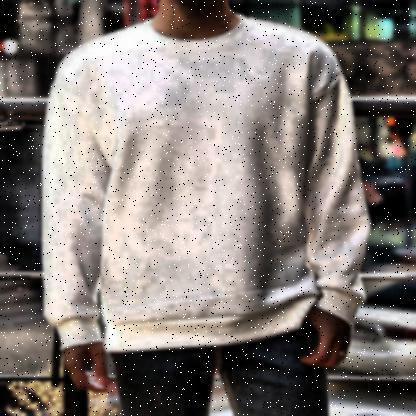sweater: (37, 15, 368, 357)
trousers: (104, 327, 333, 416)
